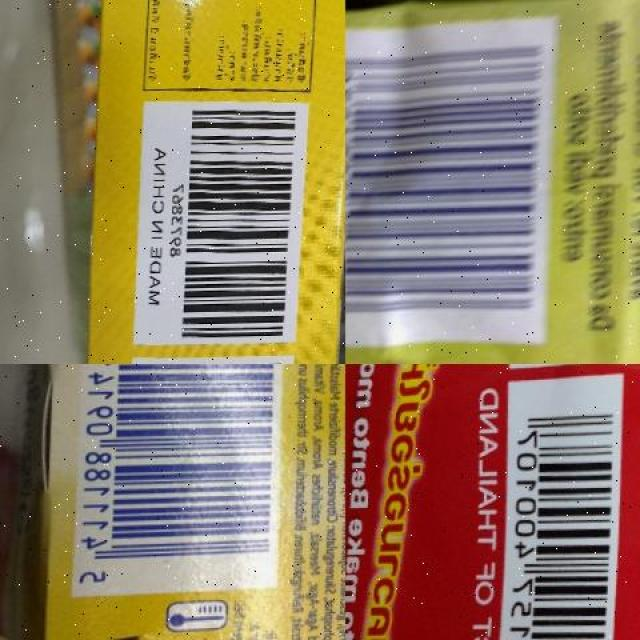Barcode: (345, 23, 560, 349), (73, 364, 292, 593), (497, 380, 627, 640), (169, 101, 303, 343)
